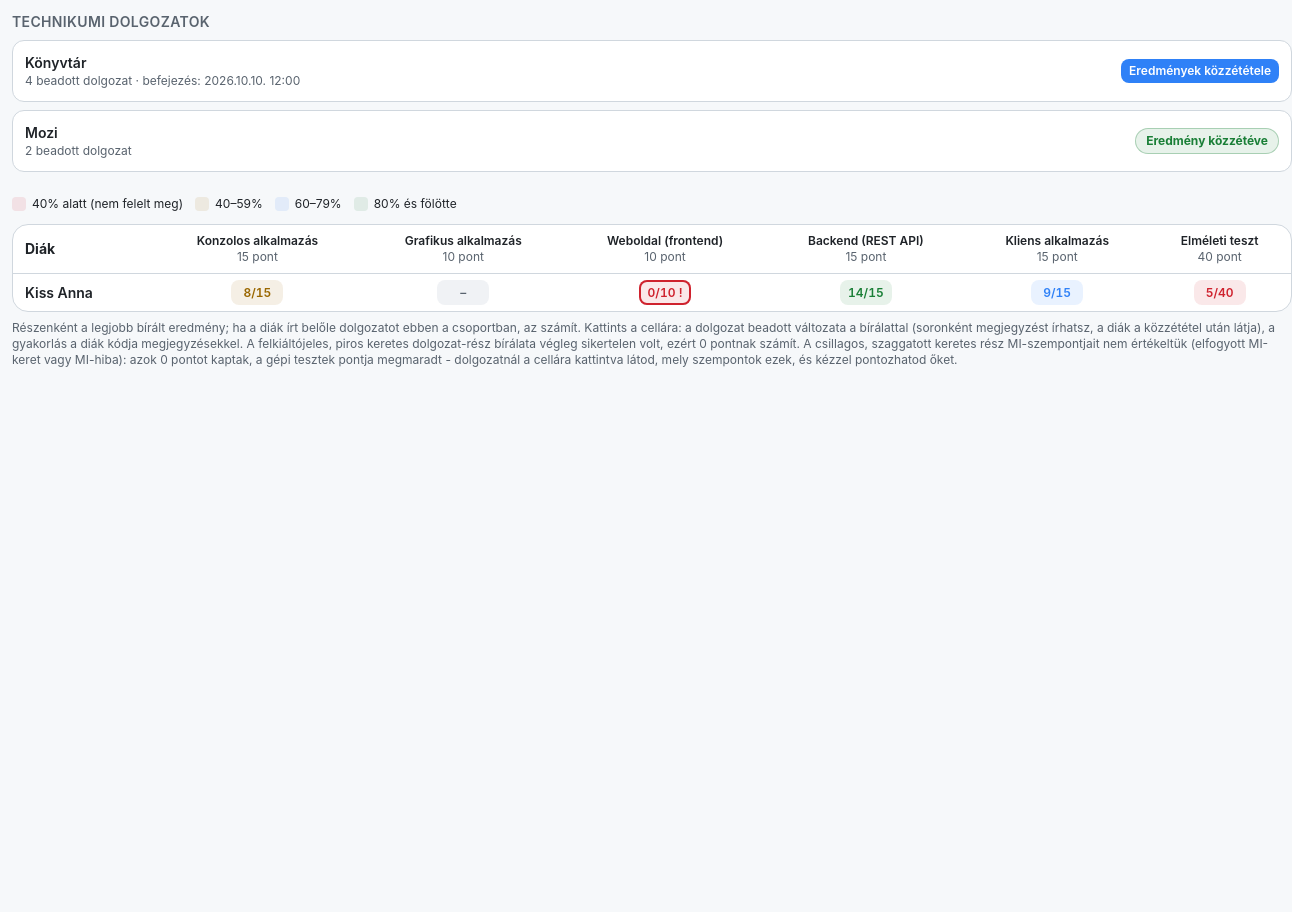
Test: VizsgareszTerkepComponent › a dolgozat-cella a beadott pillanatképet nyitja: bírálat részenként és a kód vizsgarészenként, megjegyezhetően
Click the button with test id "cell-55-console": (257, 293) [231,280,283,305]
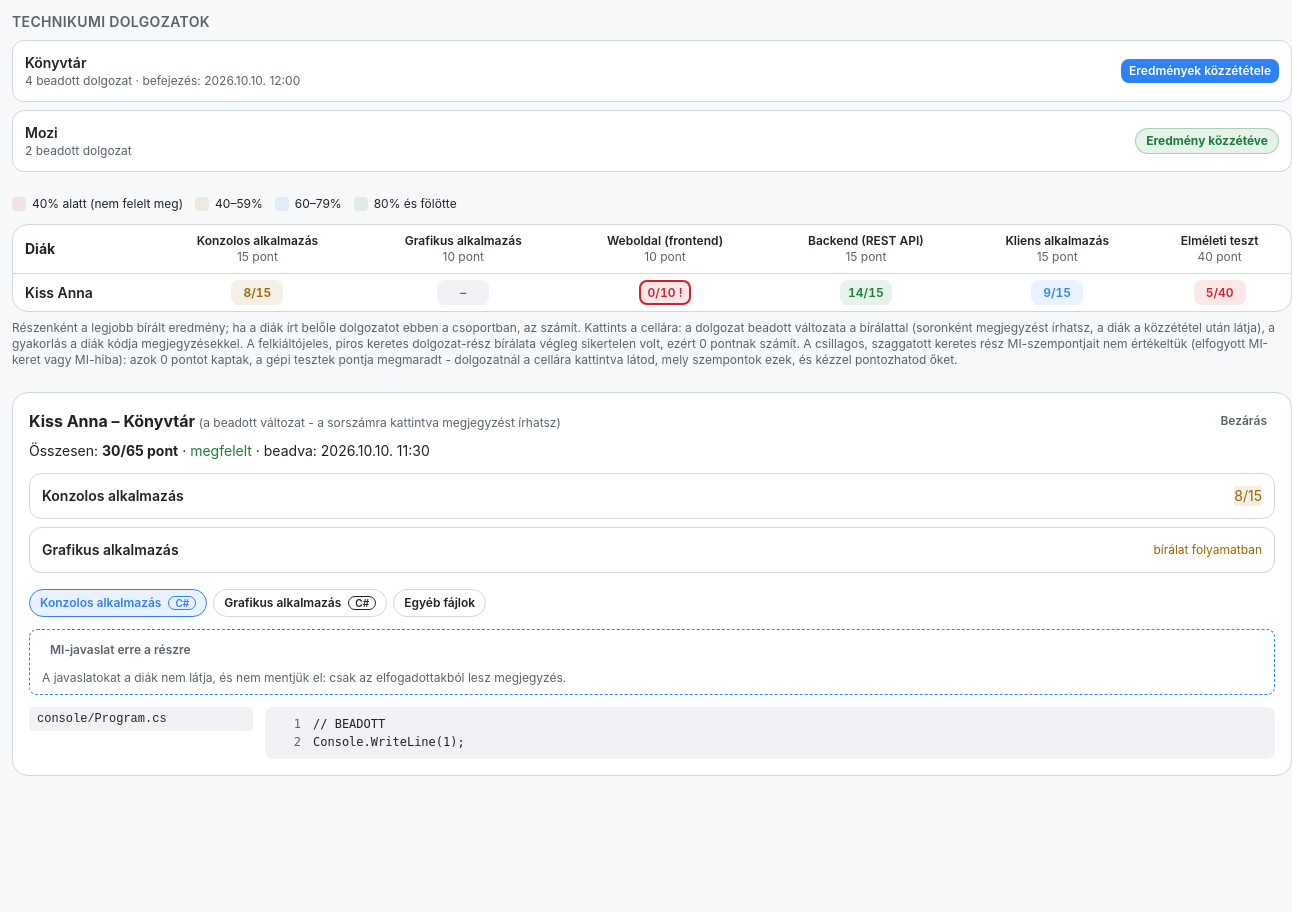
Expected: the element with test id "snapshot" shows "Kiss Anna – Könyvtár", [29,411,199,431]
Expected: the element with test id "snapshot" shows "30/65 pont", [102,442,178,459]
Expected: the element with test id "snapshot" shows "megfelelt", [190,442,252,459]
Click the button "Bezárás": (1244, 421) [1212,409,1275,433]
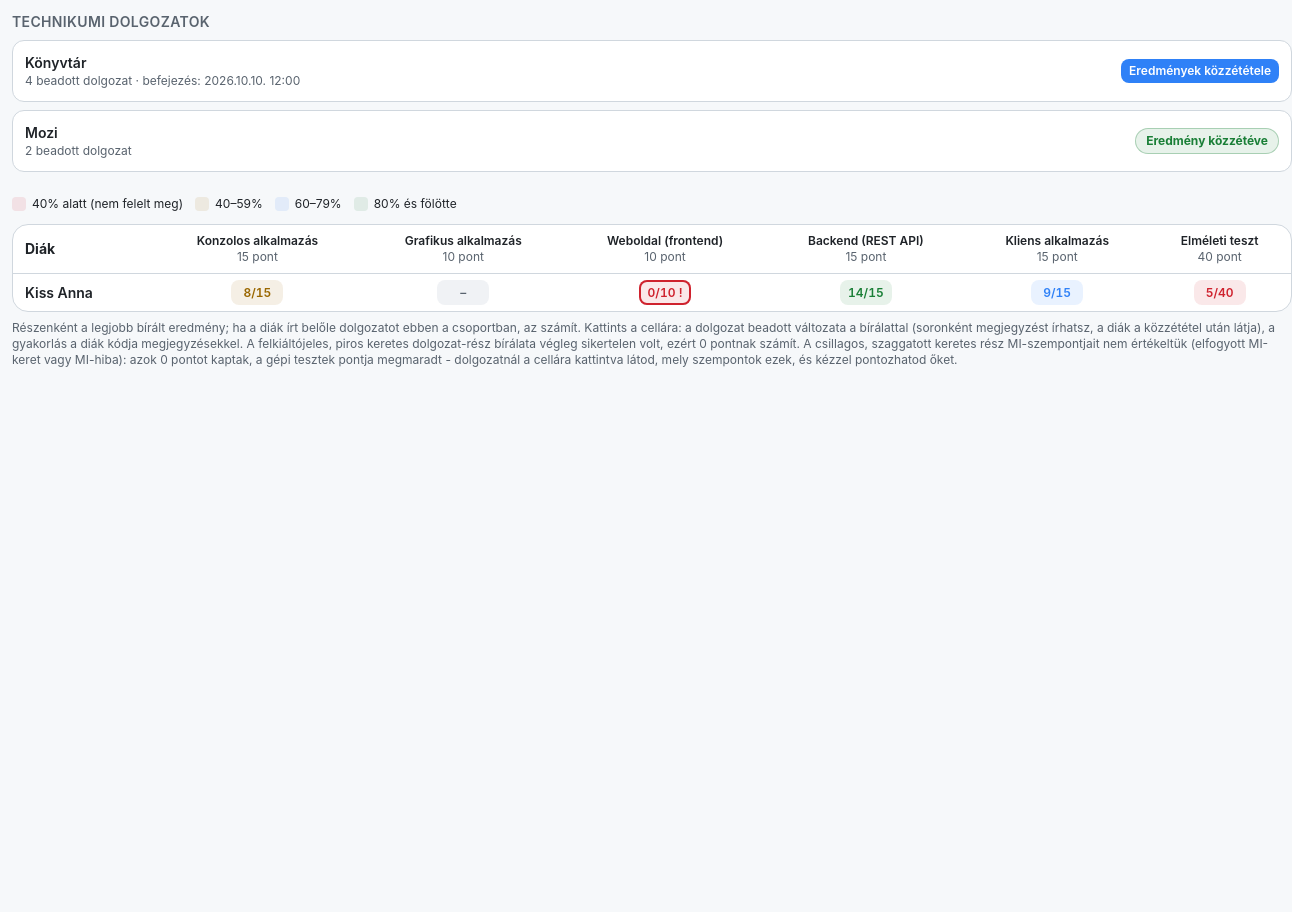
Expected: the element with test id "snapshot" is gone
